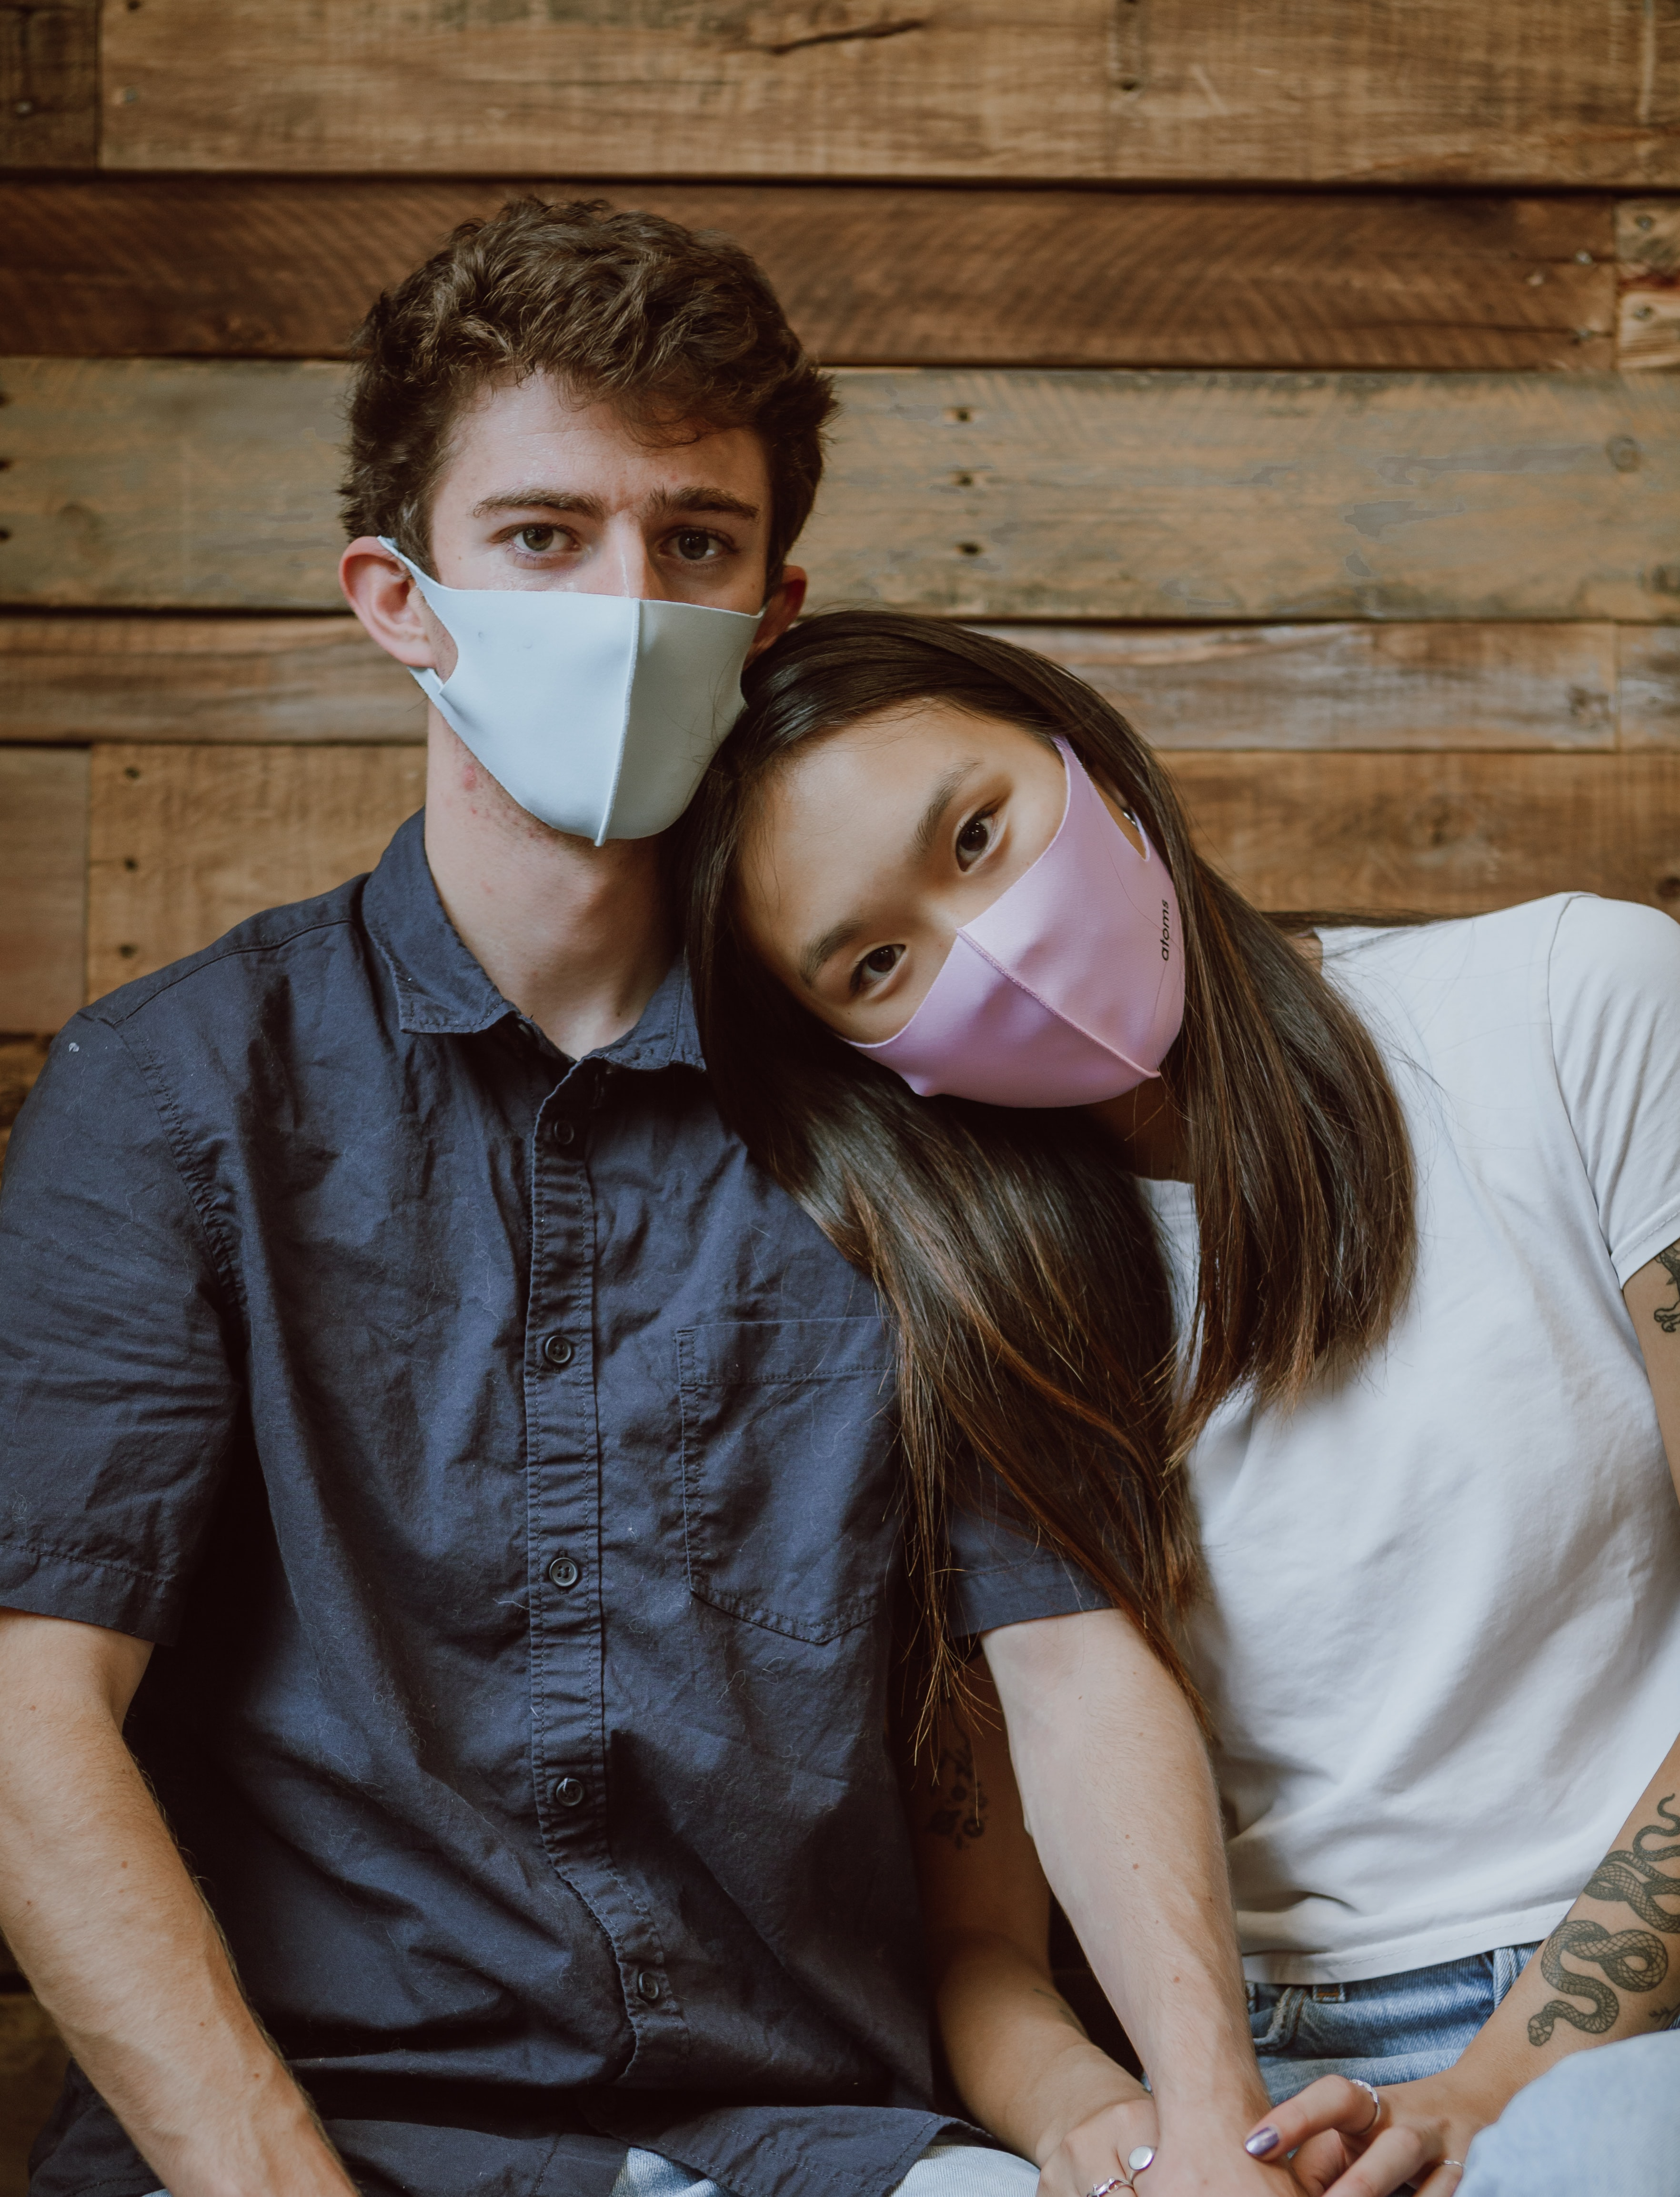mask: (838, 826, 1289, 1087), (403, 563, 767, 856)
person: (22, 174, 1211, 2197), (692, 595, 1680, 2160)
